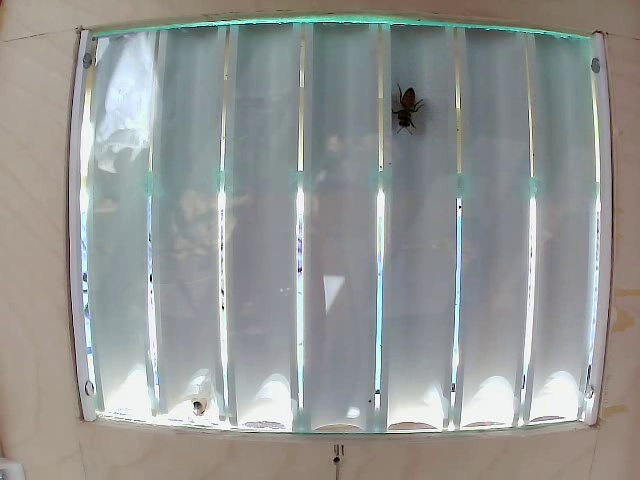bee: (375, 75, 435, 153)
